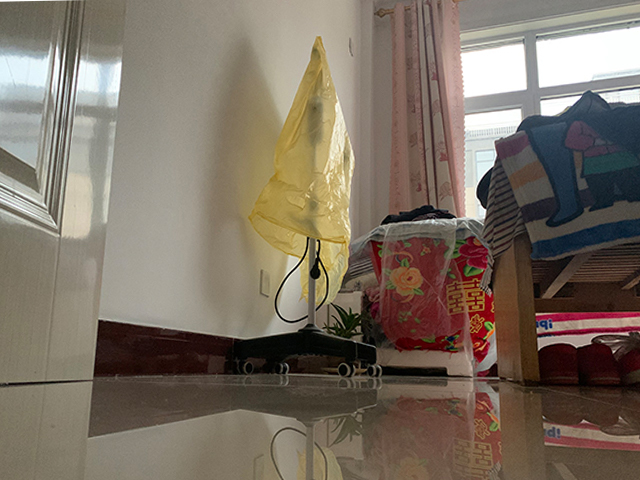bed: (475, 90, 640, 384)
curtain: (391, 2, 466, 223)
